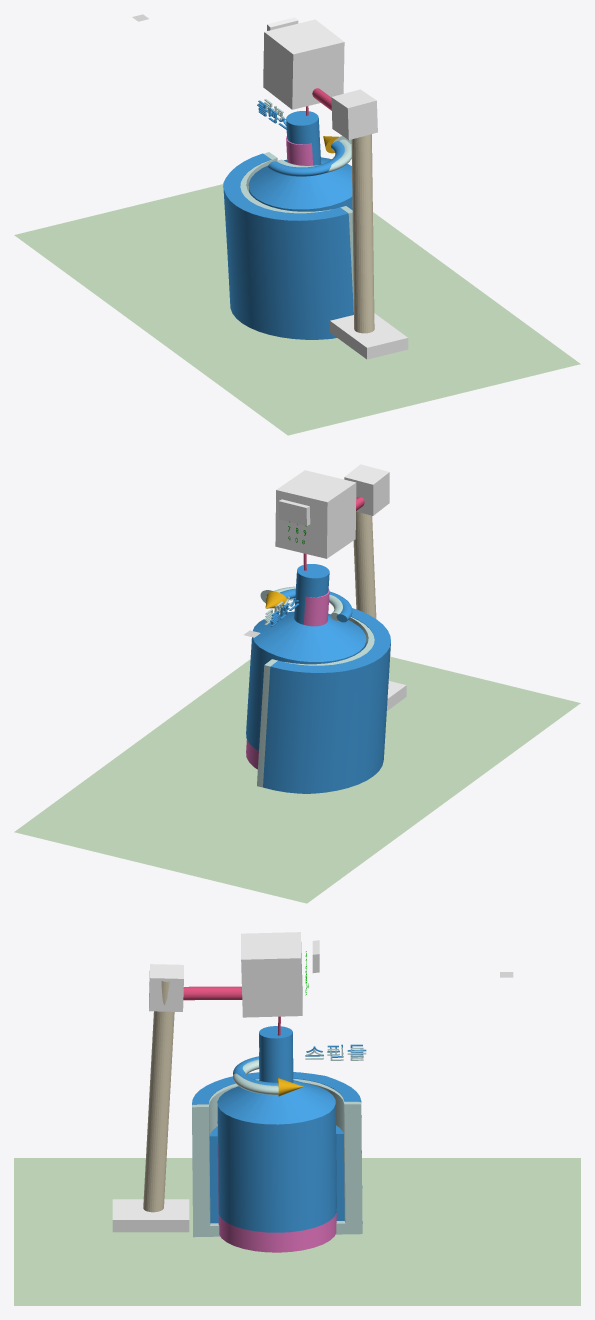
File: assignment_v4.gltf
3 views of the same model, one above another, from view 1: azimuth 30°, elevation 25°; view 2: azimuth 150°, elevation 25°; view 3: azimuth 270°, elevation 25° (orthographic). The views are drawn at different scales.
Visible parts, largest first — view 1: Panel, Viscometer v1.004, Cube.viscometer, Cylinder.vertical-pole, Cube.stand, Cube.mount, Viscometer.container-cover, Viscometer.container; view 2: Panel, Viscometer v1.004, Cube.viscometer, Viscometer.container-cover, Cylinder.vertical-pole, Cube.mount, Viscometer.container, Plane.number; view 3: Panel, Viscometer v1.004, Viscometer.container-cover, Cube.viscometer, Cylinder.vertical-pole, Viscometer.container, Cube.stand, Cube.mount, Cylinder.horizontal-pole.
Boxes of the visible parts, box(x1,y1,x2,y2) form: Panel: box(14, 184, 580, 435); Viscometer v1.004: box(223, 100, 353, 339); Cube.viscometer: box(263, 19, 344, 109); Cylinder.vertical-pole: box(351, 134, 374, 333); Cube.stand: box(330, 313, 408, 359); Cube.mount: box(331, 89, 377, 139); Viscometer.container-cover: box(240, 99, 353, 311); Viscometer.container: box(286, 136, 312, 165); Panel: box(14, 656, 580, 903); Viscometer v1.004: box(246, 564, 390, 793); Cube.viscometer: box(275, 470, 356, 558); Viscometer.container-cover: box(257, 586, 374, 787); Cylinder.vertical-pole: box(353, 511, 376, 618); Cube.mount: box(344, 464, 389, 515); Viscometer.container: box(246, 589, 329, 769); Plane.number: box(278, 499, 310, 525); Panel: box(14, 1158, 580, 1305); Viscometer v1.004: box(192, 1026, 366, 1232); Viscometer.container-cover: box(192, 1047, 366, 1237); Cube.viscometer: box(241, 932, 302, 1017); Cylinder.vertical-pole: box(143, 981, 174, 1212); Viscometer.container: box(217, 1052, 336, 1252); Cube.stand: box(112, 1199, 189, 1232); Cube.mount: box(149, 964, 183, 1011); Cylinder.horizontal-pole: box(183, 986, 242, 1000).
Size of the model in its own units: 52.5 by 47.4 by 85.02.
